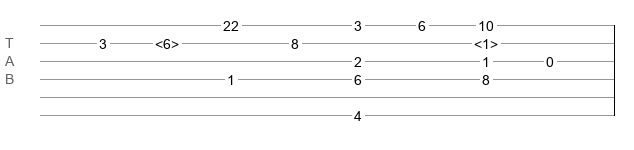0: (546, 54, 554, 64)
1: (227, 72, 235, 82), (482, 54, 490, 64)
10: (478, 18, 494, 28)
2: (354, 54, 362, 64)
22: (223, 18, 239, 28)
3: (99, 36, 107, 46), (354, 18, 362, 28)
4: (354, 108, 362, 118)
6: (354, 72, 362, 82), (418, 18, 426, 28)
8: (291, 36, 299, 46), (482, 72, 490, 82)
harmonic: (155, 36, 179, 46), (474, 36, 498, 46)
